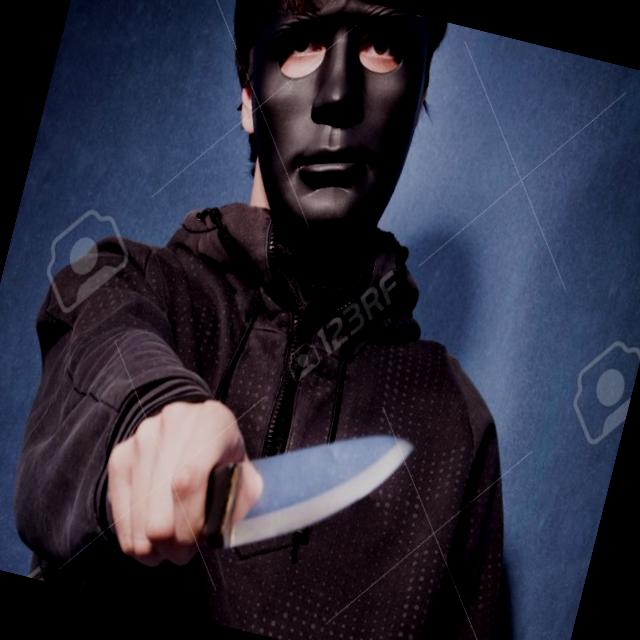knife: (105, 362, 434, 628)
